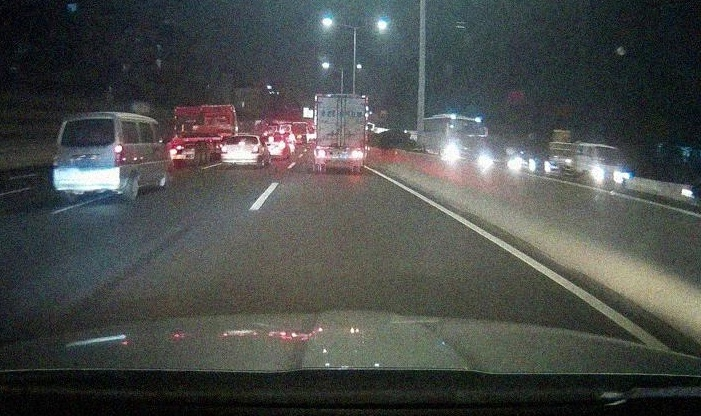L_light: (51, 150, 59, 168), (316, 150, 330, 158), (221, 146, 227, 153)
R_light: (113, 144, 123, 164), (351, 150, 364, 159), (251, 146, 259, 154)
T_light: (238, 141, 246, 145), (80, 118, 95, 120), (337, 95, 346, 98)
night-brake: (219, 135, 261, 168)
night-no: (314, 94, 368, 172)
night-right: (50, 112, 127, 201)
